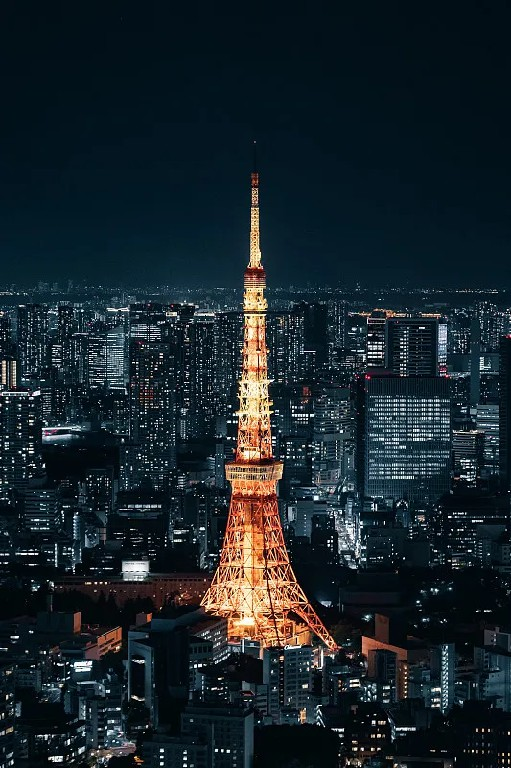Tokyo: (199, 136, 336, 655)
